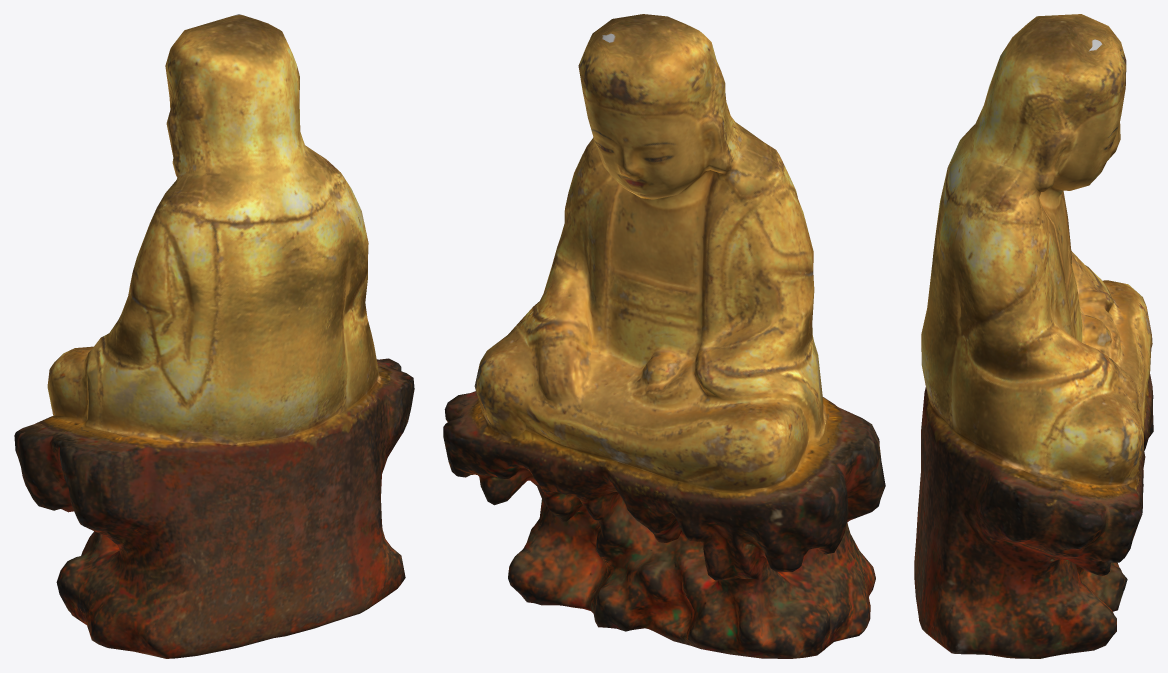
File: SM_001_Statue_of_the_Buddha.FBX
3 views of the same model, side by side, from view 1: azimuth 30°, elevation 25°; view 2: azimuth 150°, elevation 25°; view 3: azimuth 270°, elevation 25° (orthographic). The views are drawn at different scales.
Visible parts, largest first — view 1: SM_001_Statue_of_the_Buddha; view 2: SM_001_Statue_of_the_Buddha; view 3: SM_001_Statue_of_the_Buddha.
Boxes of the visible parts, <box> form: SM_001_Statue_of_the_Buddha: <box>14,14,414,658</box>; SM_001_Statue_of_the_Buddha: <box>443,14,885,658</box>; SM_001_Statue_of_the_Buddha: <box>914,14,1153,658</box>.
Size of the model in its own units: 236 by 336 by 126.
